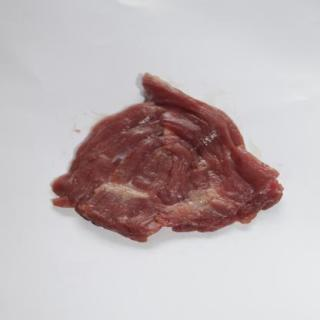Daging Sapi: (53, 74, 286, 243)
